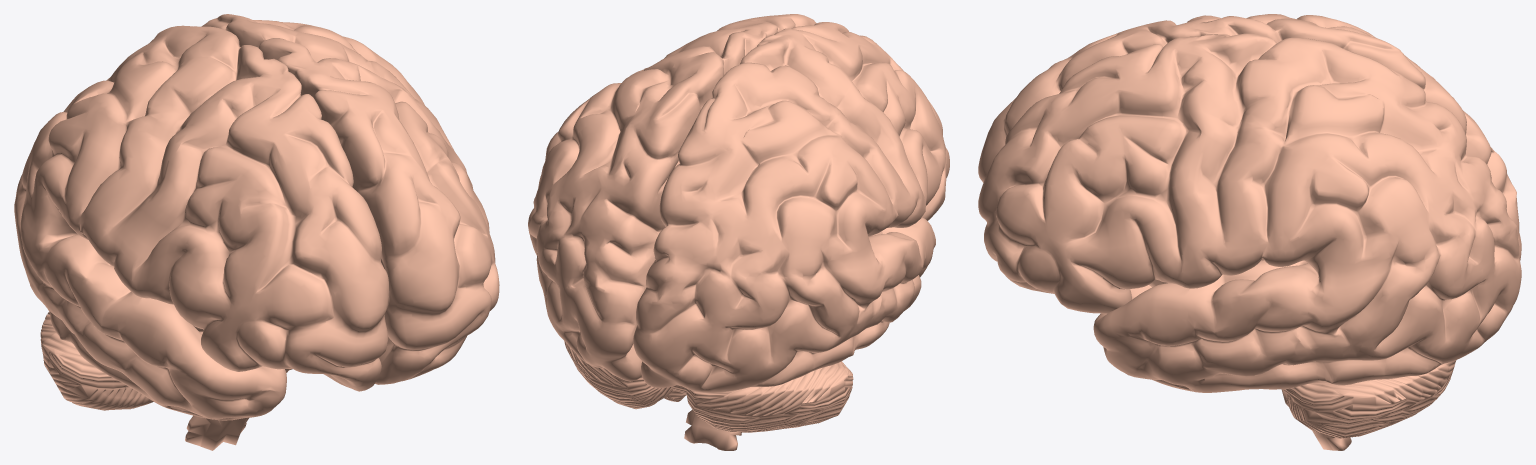
File: brain.glb
The picture shows the model from 3 angles, left to right: view 1: azimuth 30°, elevation 25°; view 2: azimuth 150°, elevation 25°; view 3: azimuth 270°, elevation 25°; orthographic projection. The views are drawn at different scales.
Parts seen in each view (by area): view 1: Brain_Part_06, Brain_Part_04, Brain_Part_02, Brain_Part_05; view 2: Brain_Part_06, Brain_Part_04, Brain_Part_02, Brain_Part_05; view 3: Brain_Part_04, Brain_Part_06, Brain_Part_02, Brain_Part_05.
Part boxes in pixels (x1,y1,x2,y2): Brain_Part_06: [14, 25, 388, 420]; Brain_Part_04: [201, 14, 499, 384]; Brain_Part_02: [40, 312, 292, 410]; Brain_Part_05: [185, 326, 289, 450]; Brain_Part_06: [633, 22, 949, 392]; Brain_Part_04: [528, 14, 816, 381]; Brain_Part_02: [564, 341, 853, 432]; Brain_Part_05: [684, 409, 741, 450]; Brain_Part_04: [978, 33, 1521, 392]; Brain_Part_06: [978, 14, 1521, 260]; Brain_Part_02: [1283, 360, 1456, 438]; Brain_Part_05: [1149, 259, 1351, 450].
Bounding box in the file's own units: 380 × 402 × 473.
